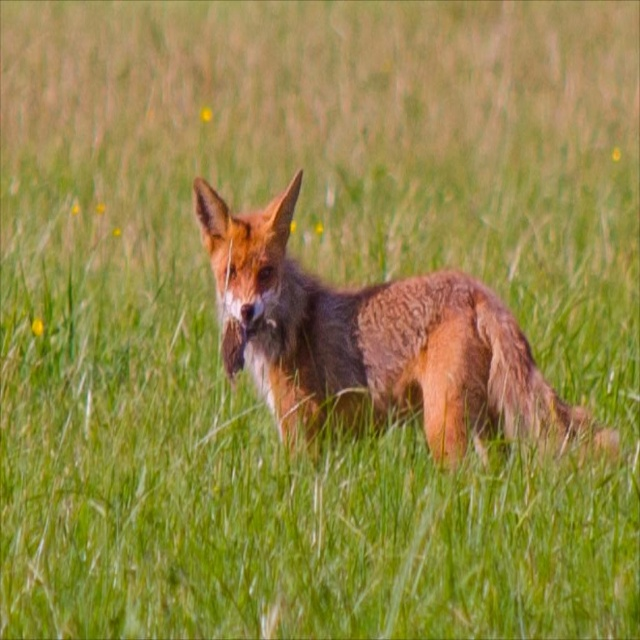Fox: (191, 168, 620, 471)
